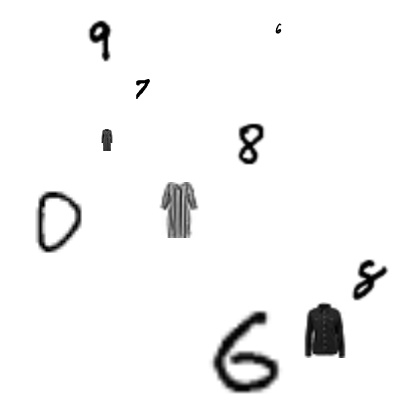0: (12, 177, 96, 261)
6: (186, 300, 298, 412), (271, 22, 285, 36)
7: (128, 72, 156, 100)
8: (221, 114, 277, 170), (338, 250, 394, 306)
9: (72, 9, 128, 65)
Coat: (96, 129, 118, 151)
Dress: (150, 182, 206, 238)
Shirt: (297, 302, 353, 358)
